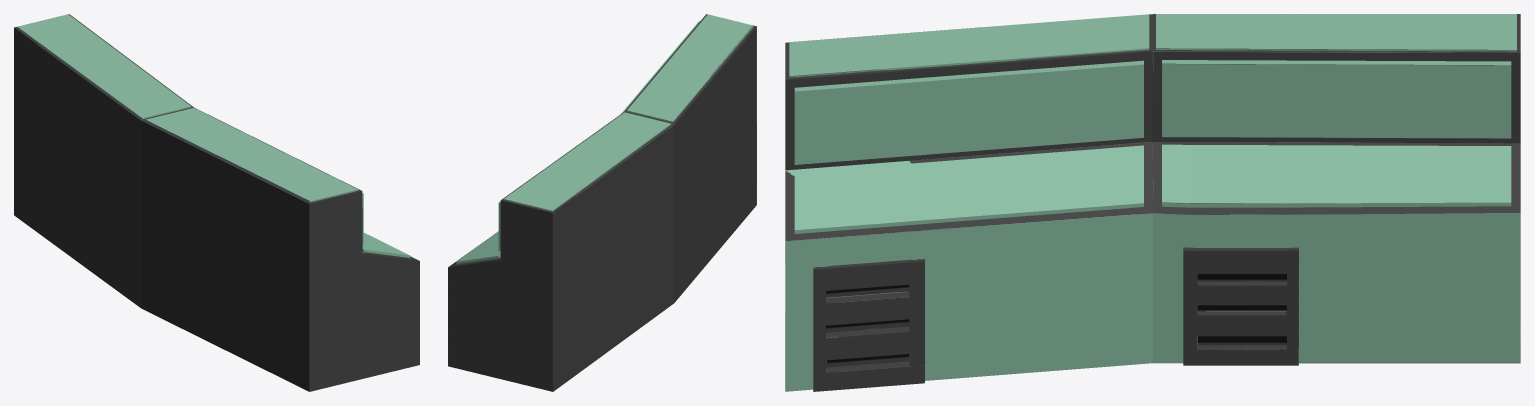
Rendered from middle_console_05.glb.
The picture shows the model from 3 angles, left to right: view 1: azimuth 30°, elevation 25°; view 2: azimuth 150°, elevation 25°; view 3: azimuth 270°, elevation 25°; orthographic projection. The views are drawn at different scales.
Parts seen in each view (by area): view 1: Cube.002; view 2: Cube.002; view 3: Cube.002.
Part boxes in pixels (x1=…): Cube.002: x1=14, y1=14, x2=419, y2=391; Cube.002: x1=448, y1=14, x2=756, y2=391; Cube.002: x1=785, y1=14, x2=1520, y2=391.
Size of the model in its own units: 1.51 by 1.8 by 4.4.
1 material, 1 textured.
